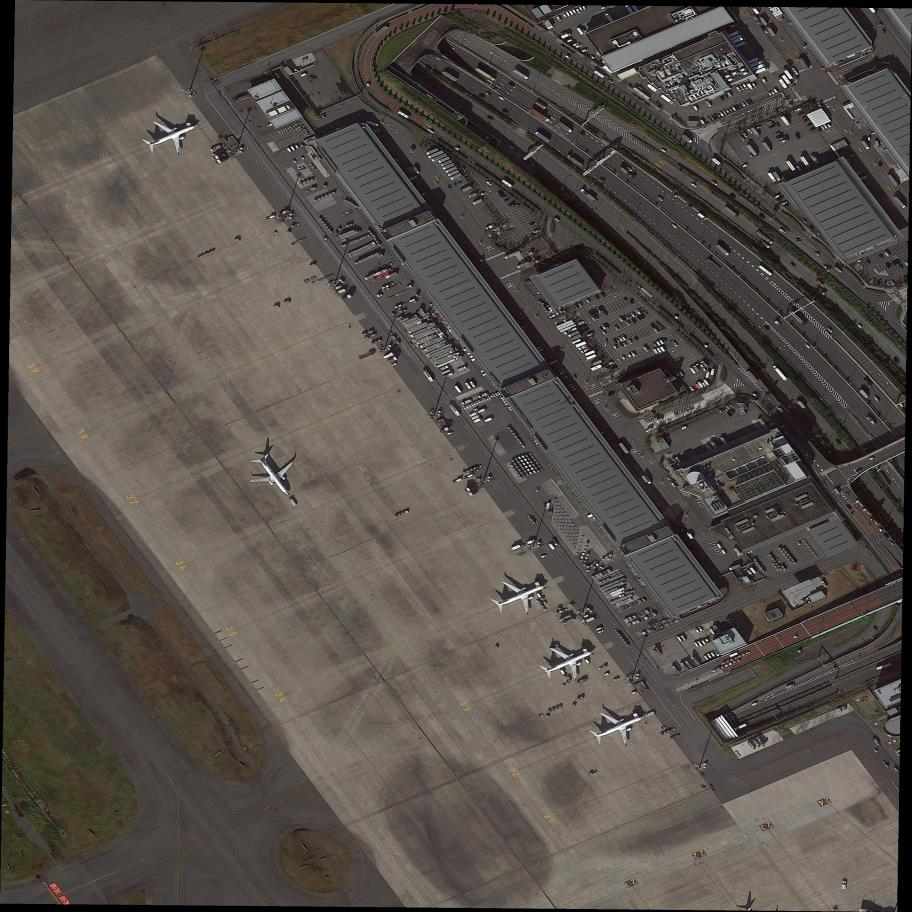large-vehicle: (529, 107, 552, 124), (788, 309, 808, 328), (474, 66, 496, 83), (755, 229, 775, 246), (771, 363, 788, 383), (579, 186, 596, 203), (566, 153, 584, 169), (723, 204, 740, 220), (886, 172, 901, 190), (715, 243, 732, 258), (447, 402, 462, 419), (784, 158, 799, 175), (757, 263, 774, 278), (513, 68, 531, 82), (534, 130, 551, 144), (557, 120, 574, 134), (619, 166, 636, 180), (746, 143, 760, 160), (892, 195, 907, 210), (500, 177, 516, 191), (421, 368, 435, 384), (373, 24, 389, 38), (706, 257, 721, 271), (427, 149, 446, 160), (659, 93, 675, 106), (799, 154, 812, 170), (441, 70, 458, 82), (646, 82, 661, 95), (776, 76, 789, 91), (431, 152, 448, 163), (780, 74, 793, 88), (857, 387, 870, 401), (814, 285, 828, 298), (875, 661, 893, 671), (587, 364, 604, 374), (534, 99, 548, 111), (859, 138, 871, 152), (810, 153, 822, 167), (782, 67, 794, 81), (641, 473, 653, 487), (593, 68, 606, 80), (711, 156, 724, 168), (681, 133, 694, 145), (623, 3, 635, 16), (761, 140, 773, 153), (765, 25, 777, 38), (795, 397, 807, 410), (397, 109, 411, 120), (780, 114, 791, 128), (459, 185, 474, 195), (727, 29, 742, 39), (508, 543, 523, 553), (733, 722, 748, 732), (566, 330, 582, 339), (604, 11, 615, 24), (767, 171, 778, 184), (771, 169, 782, 182), (871, 735, 882, 748), (438, 155, 452, 165), (747, 55, 761, 65), (584, 352, 598, 362), (729, 33, 744, 42), (732, 36, 747, 45), (733, 40, 748, 49), (749, 60, 764, 69), (425, 147, 440, 156), (589, 359, 604, 368), (728, 563, 743, 572), (750, 126, 761, 138), (866, 414, 877, 426), (814, 278, 825, 290), (750, 5, 761, 17), (759, 14, 769, 27), (440, 159, 454, 168), (570, 333, 584, 342), (574, 340, 588, 349), (467, 190, 479, 200), (630, 1, 640, 13), (445, 165, 458, 174), (472, 197, 485, 206), (583, 349, 596, 358), (449, 173, 463, 181), (575, 26, 585, 37), (870, 517, 880, 528), (697, 212, 708, 222), (453, 384, 463, 395), (855, 499, 865, 510), (685, 530, 695, 541), (560, 31, 572, 40), (438, 364, 450, 373), (442, 163, 455, 171), (578, 343, 591, 351), (571, 338, 584, 346), (580, 346, 593, 354), (833, 265, 843, 275), (684, 202, 694, 212), (704, 98, 713, 109), (412, 165, 421, 176), (464, 381, 473, 392), (863, 507, 872, 518), (525, 538, 537, 546), (483, 416, 495, 424), (456, 365, 468, 373), (701, 359, 710, 369), (689, 366, 698, 376), (548, 541, 557, 551), (477, 406, 487, 415), (812, 250, 822, 259), (761, 241, 771, 250), (442, 372, 453, 380), (448, 170, 460, 177), (746, 82, 755, 91), (823, 265, 832, 274), (693, 364, 701, 374), (472, 417, 483, 424), (470, 414, 481, 421), (703, 378, 711, 387), (469, 380, 477, 389), (833, 487, 841, 496), (594, 625, 604, 632), (468, 411, 478, 418), (697, 380, 704, 389), (694, 382, 701, 390), (726, 90, 733, 98), (705, 371, 711, 379), (710, 368, 716, 376)
plane: (474, 554, 567, 634), (522, 621, 607, 697), (575, 692, 659, 764), (233, 443, 312, 513), (133, 103, 211, 169)
small-vehicle: (773, 319, 783, 329), (668, 191, 679, 200), (500, 107, 510, 116), (605, 77, 615, 86), (881, 760, 890, 770), (485, 223, 496, 231), (480, 370, 491, 378), (741, 130, 750, 139), (803, 342, 812, 351), (855, 322, 864, 331), (825, 325, 834, 334), (625, 164, 634, 173), (670, 222, 679, 231), (555, 14, 563, 24), (488, 378, 498, 386), (772, 193, 782, 201), (793, 237, 803, 245), (689, 181, 699, 189), (479, 367, 490, 374), (497, 94, 506, 102), (561, 12, 569, 21), (873, 395, 881, 404), (762, 323, 770, 332), (893, 357, 901, 366), (710, 179, 719, 187), (597, 175, 606, 183), (656, 195, 665, 203), (696, 640, 704, 649), (845, 503, 853, 512), (676, 635, 684, 644), (672, 339, 680, 348), (659, 344, 667, 353), (670, 481, 678, 490), (716, 542, 724, 551), (493, 384, 503, 391), (490, 381, 500, 388), (750, 700, 760, 707), (478, 92, 486, 100), (588, 53, 596, 61), (485, 179, 493, 187), (751, 81, 759, 89), (525, 513, 533, 521), (877, 253, 885, 261), (801, 217, 809, 225), (888, 279, 896, 287), (788, 262, 796, 270), (779, 227, 787, 235), (794, 132, 802, 140), (617, 316, 625, 324), (642, 345, 650, 353), (743, 99, 751, 107), (602, 309, 610, 317), (708, 628, 716, 636), (704, 638, 712, 646), (888, 539, 896, 547), (658, 338, 666, 346), (563, 54, 572, 61), (693, 104, 700, 113), (390, 361, 399, 368), (299, 72, 308, 79), (539, 553, 548, 560), (548, 313, 557, 320), (586, 331, 595, 338), (761, 77, 768, 86), (894, 748, 903, 755), (680, 634, 687, 643), (656, 346, 663, 355), (721, 548, 728, 557), (434, 55, 442, 62), (484, 91, 492, 98), (427, 128, 435, 135), (565, 11, 572, 19), (568, 9, 575, 17), (739, 84, 746, 92), (735, 85, 742, 93), (699, 118, 706, 126), (660, 148, 668, 155), (740, 163, 748, 170), (446, 430, 454, 437), (274, 72, 281, 80), (294, 143, 301, 151), (286, 146, 293, 154), (291, 158, 298, 166), (299, 154, 306, 162), (507, 201, 515, 208), (898, 263, 905, 271), (814, 229, 821, 237), (780, 200, 788, 207), (885, 262, 892, 270), (904, 260, 911, 268), (795, 540, 802, 548), (898, 401, 905, 409), (604, 321, 611, 329), (594, 313, 601, 321), (809, 126, 817, 133), (747, 98, 754, 106), (772, 87, 779, 95), (823, 123, 830, 131), (631, 317, 638, 325), (640, 313, 647, 321), (617, 335, 624, 343), (650, 322, 657, 330), (613, 324, 620, 332), (728, 106, 735, 114), (731, 105, 738, 113), (740, 101, 747, 109), (746, 127, 753, 135), (601, 329, 608, 337), (630, 350, 637, 358), (693, 641, 700, 649), (714, 650, 721, 658), (603, 671, 611, 678), (655, 339, 662, 347), (653, 348, 660, 356), (665, 474, 672, 482), (701, 503, 709, 510), (695, 496, 703, 503), (574, 43, 583, 49), (495, 190, 504, 196), (855, 258, 864, 264), (778, 139, 787, 145), (601, 59, 608, 66), (571, 8, 578, 15), (742, 83, 749, 90), (297, 166, 304, 173), (706, 116, 713, 123), (894, 259, 901, 266), (884, 251, 891, 258), (574, 303, 581, 310), (748, 153, 755, 160), (726, 411, 733, 418), (826, 122, 833, 129), (718, 111, 725, 118), (624, 314, 631, 321), (601, 292, 608, 299), (653, 327, 660, 334), (627, 338, 634, 345), (673, 314, 680, 321), (652, 341, 659, 348), (694, 627, 701, 634), (706, 653, 713, 660), (877, 527, 884, 534), (883, 533, 890, 540), (662, 337, 669, 344), (508, 82, 516, 88), (566, 37, 574, 43), (572, 41, 580, 47), (453, 146, 461, 152), (500, 194, 508, 200), (599, 5, 607, 11), (566, 382, 574, 388), (562, 374, 570, 380), (507, 404, 515, 410), (500, 394, 508, 400), (365, 81, 371, 89), (266, 123, 274, 129), (597, 629, 605, 635), (577, 320, 585, 326), (533, 228, 541, 234), (553, 217, 561, 223), (514, 202, 522, 208), (891, 260, 897, 268), (744, 650, 752, 656), (560, 30, 568, 36), (791, 634, 799, 640), (794, 107, 802, 113), (768, 124, 776, 130), (636, 308, 642, 316), (621, 334, 627, 342), (613, 344, 619, 352), (590, 308, 596, 316), (755, 125, 763, 131), (710, 651, 716, 659), (630, 690, 638, 696), (897, 751, 905, 757), (689, 385, 695, 393), (501, 397, 510, 402), (503, 199, 512, 204), (784, 133, 790, 140), (595, 51, 601, 58), (723, 93, 729, 100), (576, 8, 582, 15), (578, 6, 584, 13), (581, 4, 587, 11), (740, 135, 746, 142), (571, 387, 578, 393), (559, 370, 566, 376), (290, 145, 296, 152), (577, 302, 583, 309), (585, 299, 592, 305), (595, 307, 601, 314), (587, 310, 593, 317), (600, 324, 607, 330), (529, 233, 536, 239), (461, 404, 467, 411), (710, 115, 716, 122), (866, 259, 872, 266), (717, 408, 723, 415), (723, 406, 729, 413), (629, 299, 635, 306), (767, 91, 773, 98), (798, 111, 805, 117), (778, 136, 785, 142), (820, 125, 826, 132), (628, 313, 634, 320), (631, 312, 637, 319), (637, 315, 643, 322), (599, 305, 605, 312), (595, 294, 601, 301), (615, 337, 621, 344), (621, 354, 627, 361), (627, 352, 633, 359), (625, 320, 631, 327), (722, 109, 728, 116), (719, 95, 725, 102), (703, 343, 710, 349), (701, 639, 707, 646), (703, 655, 709, 662), (873, 747, 879, 754), (698, 626, 704, 633), (699, 362, 705, 369), (581, 48, 589, 53), (557, 368, 565, 373), (502, 399, 510, 404), (587, 335, 595, 340), (698, 502, 706, 507), (491, 392, 497, 398), (479, 398, 485, 404), (308, 162, 314, 168), (591, 316, 597, 322), (474, 400, 480, 406), (469, 402, 475, 408), (467, 403, 473, 409), (716, 113, 722, 119), (622, 296, 628, 302), (770, 90, 776, 96), (622, 341, 628, 347), (634, 336, 640, 342), (725, 108, 731, 114), (509, 407, 516, 412), (504, 401, 511, 406), (480, 191, 487, 196), (869, 456, 876, 461), (608, 360, 615, 365), (603, 340, 608, 347), (747, 550, 754, 555), (497, 193, 505, 197), (774, 132, 782, 136), (572, 375, 578, 380), (570, 384, 576, 389), (487, 395, 492, 401), (485, 396, 490, 402), (481, 397, 487, 402), (477, 399, 482, 405), (472, 401, 477, 407), (465, 404, 470, 410), (613, 339, 618, 345), (802, 116, 808, 121), (804, 118, 810, 123), (807, 122, 813, 127), (768, 122, 774, 127), (867, 136, 872, 142), (497, 391, 502, 396), (494, 392, 499, 397), (489, 394, 494, 399), (301, 166, 306, 171), (312, 166, 317, 171), (767, 120, 772, 125), (536, 488, 540, 494)
